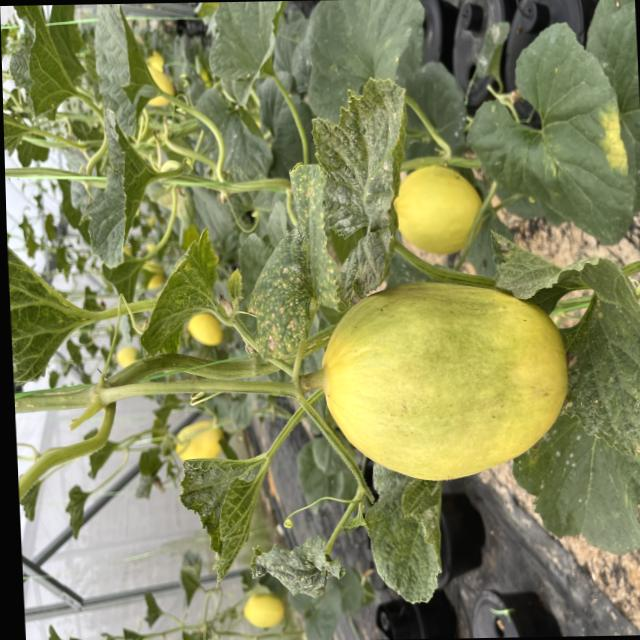SLCV: (300, 67, 422, 309), (240, 140, 343, 368), (544, 253, 640, 459), (129, 231, 242, 373), (79, 106, 164, 289), (6, 214, 92, 393), (168, 444, 274, 588), (361, 466, 447, 604), (247, 529, 346, 615)
downy mildew: (467, 24, 640, 255), (487, 224, 563, 302)
healthy: (90, 3, 166, 146), (4, 5, 88, 124)
